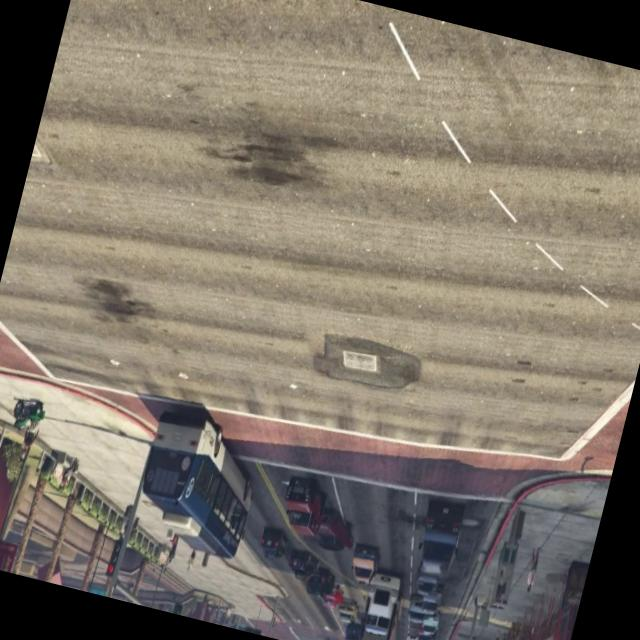Red-Signal: (93, 525, 131, 590), (165, 588, 198, 618), (238, 614, 273, 637)
